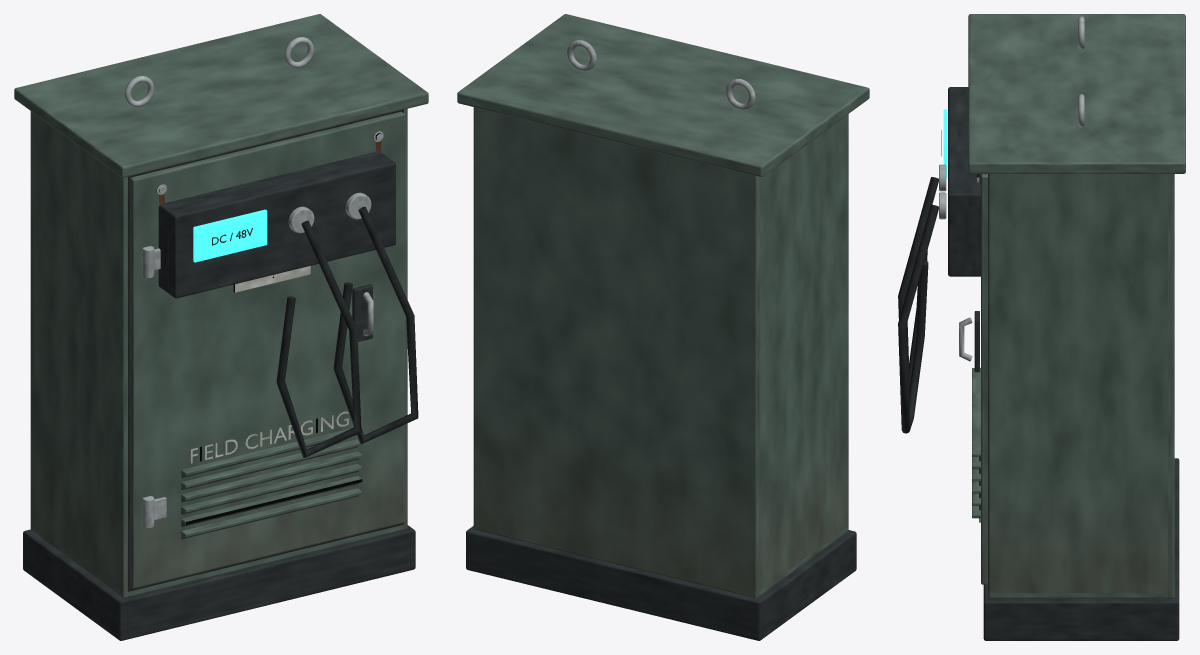
The model's file is GR_ChargingStation_02.glb.
3 views of the same model, side by side, from view 1: azimuth 30°, elevation 25°; view 2: azimuth 150°, elevation 25°; view 3: azimuth 270°, elevation 25° (orthographic).
Parts seen in each view (by area): view 1: Static; view 2: Static; view 3: Static.
Boxes of the visible parts, <box> form: Static: <box>14,14,428,640</box>; Static: <box>457,14,869,640</box>; Static: <box>898,14,1185,640</box>.
Bounding box in the file's own units: 0.97 × 1.55 × 0.7874.
2 materials, 2 textured.
